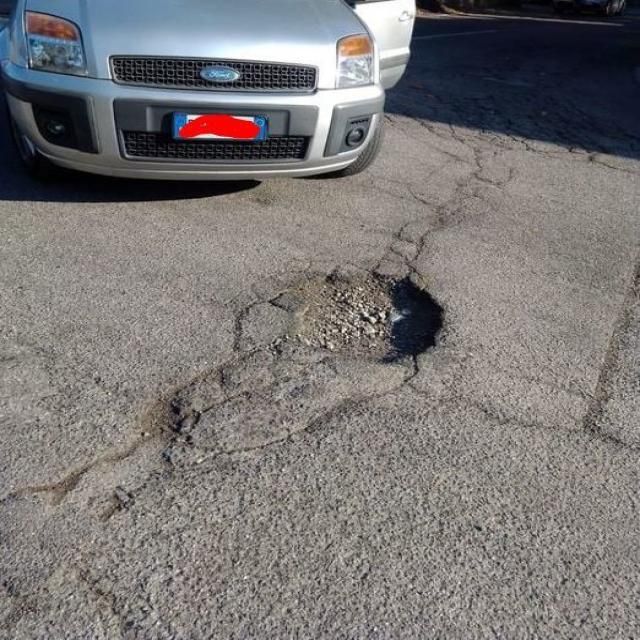pothole: (250, 254, 462, 384)
